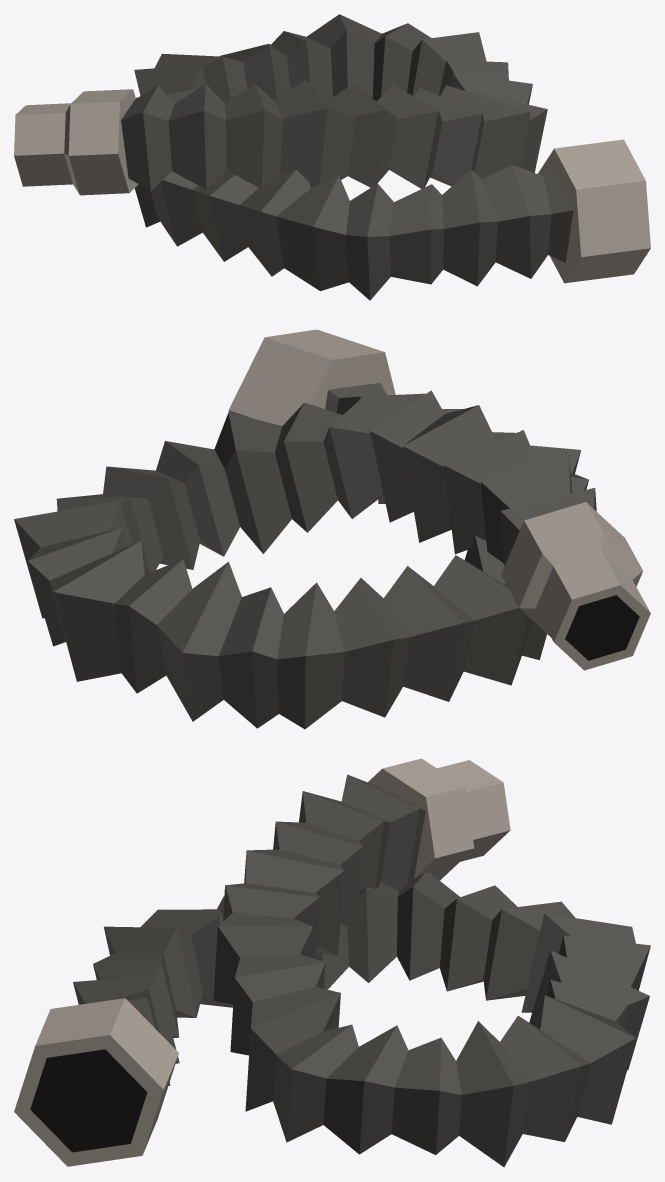
The model's file is SM_Corrugation.fbx.
3 views of the same model, one above another, from view 1: azimuth 30°, elevation 25°; view 2: azimuth 150°, elevation 25°; view 3: azimuth 270°, elevation 25° (orthographic). The views are drawn at different scales.
Visible parts, largest first — view 1: SM_Corrugation; view 2: SM_Corrugation; view 3: SM_Corrugation.
Boxes of the visible parts, x1,y1,x2,y2 form: SM_Corrugation: (14, 14, 650, 300); SM_Corrugation: (14, 329, 650, 729); SM_Corrugation: (14, 758, 650, 1167).
Bounding box in the file's own units: 33.9 × 11 × 32.9.
